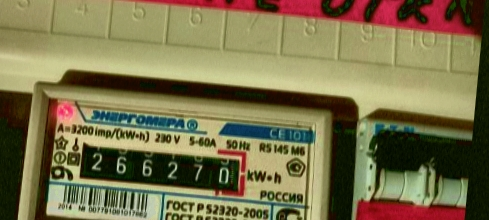0: (214, 163, 230, 184)
2: (88, 149, 103, 171), (164, 158, 179, 179)
6: (113, 152, 127, 174), (139, 156, 153, 176)
7: (190, 161, 202, 180)
screen: (65, 130, 253, 202)
